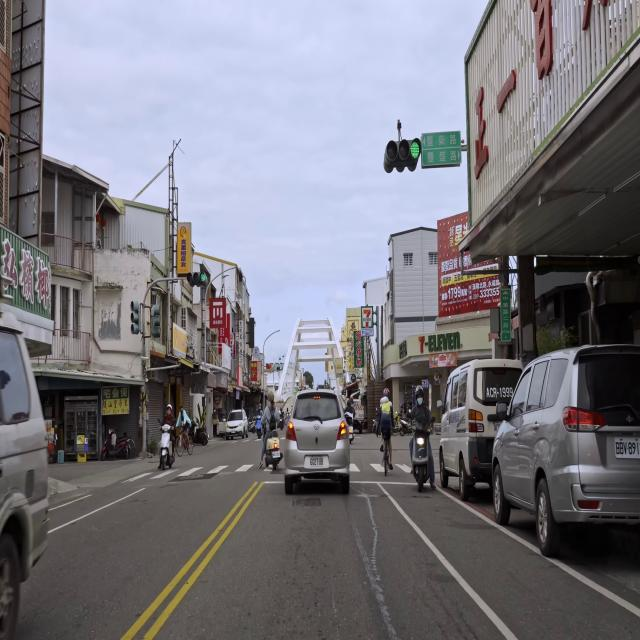green light: (385, 139, 420, 161), (186, 271, 206, 284)
